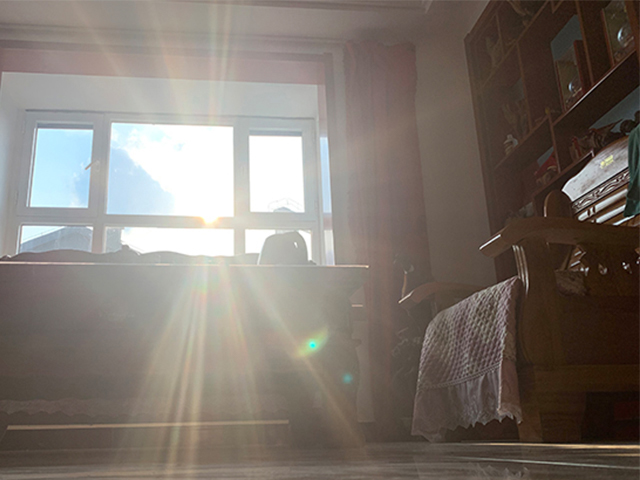sofa: (396, 127, 640, 446)
table: (1, 244, 370, 448)
